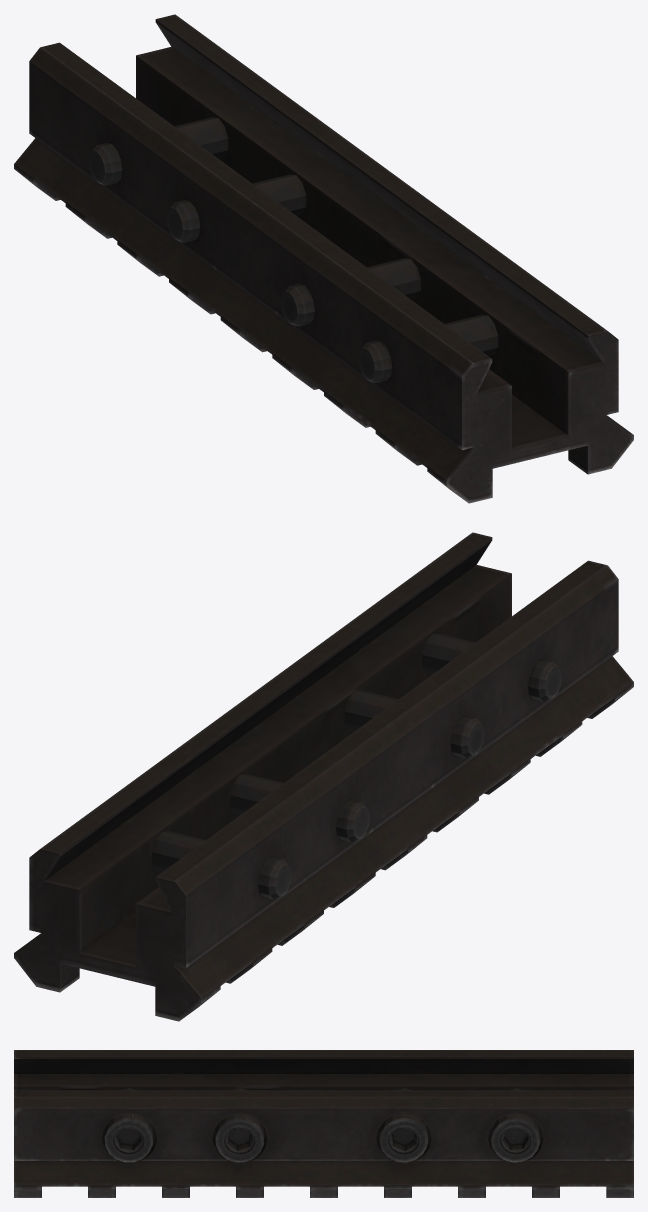
3 views of the same model, one above another, from view 1: azimuth 30°, elevation 25°; view 2: azimuth 150°, elevation 25°; view 3: azimuth 270°, elevation 25° (orthographic). The views are drawn at different scales.
Parts seen in each view (by area): view 1: TW_62e281349ecd3f493f6df954_PZ_Import; view 2: TW_62e281349ecd3f493f6df954_PZ_Import; view 3: TW_62e281349ecd3f493f6df954_PZ_Import.
Part boxes in pixels (left/top/right/bottom): TW_62e281349ecd3f493f6df954_PZ_Import: left=14, top=14, right=633, bottom=503; TW_62e281349ecd3f493f6df954_PZ_Import: left=14, top=532, right=633, bottom=1021; TW_62e281349ecd3f493f6df954_PZ_Import: left=14, top=1050, right=633, bottom=1197.
Bounding box in the file's own units: 0.0123 × 0.049 × 0.00867.
Materials: 1 (1 with a texture image).
